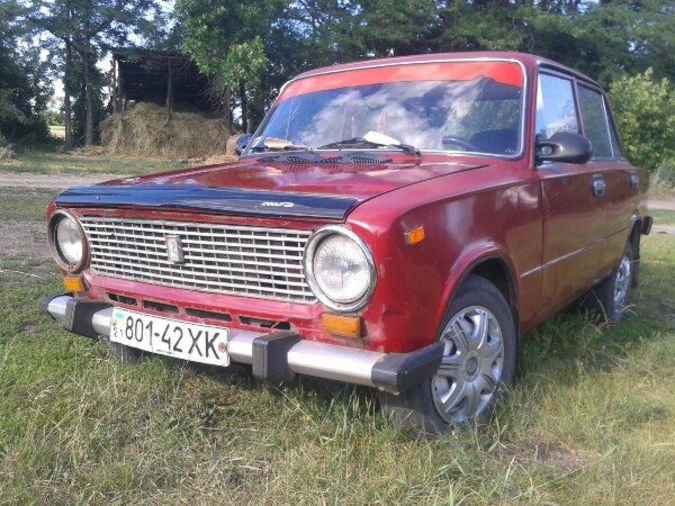car: (39, 51, 655, 436)
plate: (112, 307, 228, 365)
